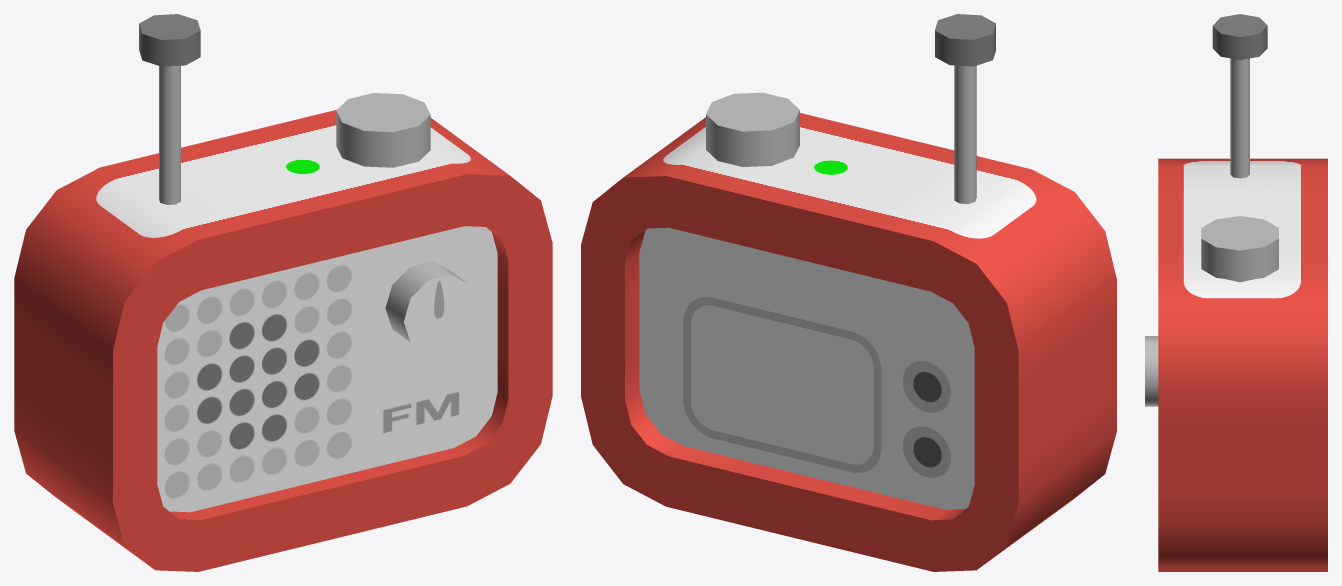
The model's file is radio.fbx.
3 renders of one model, left to right at view 1: azimuth 30°, elevation 25°; view 2: azimuth 150°, elevation 25°; view 3: azimuth 270°, elevation 25°, orthographic. The views are drawn at different scales.
Visible parts, largest first — view 1: radio; view 2: radio; view 3: radio.
Boxes of the visible parts, x1,y1,x2,y2 form: radio: (14, 14, 552, 571); radio: (581, 14, 1116, 571); radio: (1145, 14, 1327, 571).
Size of the model in its own units: 70.87 by 77.88 by 29.74.
Materials: 1 (1 with a texture image).
